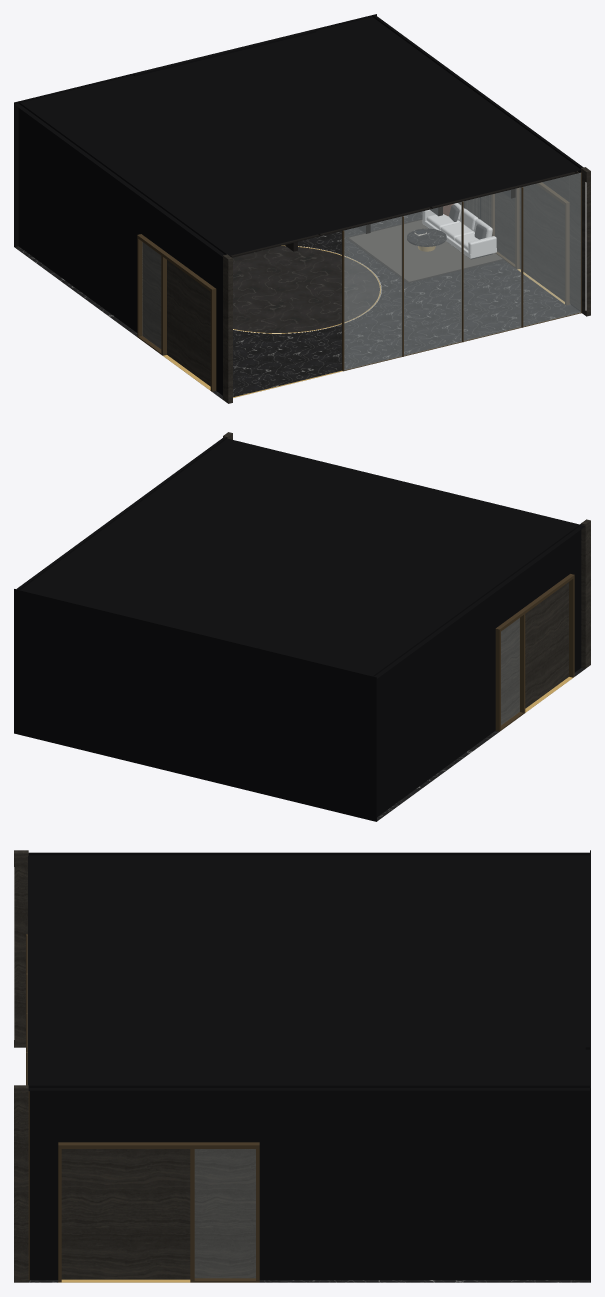
File: room_executive.glb
3 views of the same model, one above another, from view 1: azimuth 30°, elevation 25°; view 2: azimuth 150°, elevation 25°; view 3: azimuth 270°, elevation 25° (orthographic). The views are drawn at different scales.
Parts seen in each view (by area): view 1: MTG_Reveals, MTG_Glass_Vitrine, MTG_Floor, MTG_Stage, MTG_PortalFill_L, MTG_PortalFill_R, MTG_Rug, MTG_Walls, MTG_Sofa, MTG_Glass_PortalL, MTG_Pier_-1, MTG_Ceiling (+6 smaller); view 2: MTG_Reveals, MTG_PortalFill_L, MTG_Glass_PortalL, MTG_Pier_-1, MTG_PortalL_Mull, MTG_Floor, MTG_PortalL_JambA, MTG_PortalL_Head, MTG_PortalL_JambB; view 3: MTG_Reveals, MTG_PortalFill_R, MTG_Glass_PortalR, MTG_Pier_1, MTG_Pier_-1, MTG_PortalR_Head, MTG_Floor, MTG_PortalR_Mull.
Boxes of the visible parts, bbox=[...] form: MTG_Reveals: bbox=[14, 14, 583, 395]; MTG_Glass_Vitrine: bbox=[344, 173, 580, 369]; MTG_Floor: bbox=[14, 211, 579, 399]; MTG_Stage: bbox=[232, 246, 379, 332]; MTG_PortalFill_L: bbox=[142, 242, 210, 386]; MTG_PortalFill_R: bbox=[495, 184, 564, 301]; MTG_Rug: bbox=[349, 220, 502, 281]; MTG_Walls: bbox=[458, 171, 580, 310]; MTG_Sofa: bbox=[422, 203, 496, 259]; MTG_Glass_PortalL: bbox=[142, 242, 160, 348]; MTG_Pier_-1: bbox=[223, 254, 232, 403]; MTG_Ceiling: bbox=[230, 171, 576, 257]; MTG_Reveals: bbox=[14, 437, 584, 821]; MTG_PortalFill_L: bbox=[501, 582, 568, 725]; MTG_Glass_PortalL: bbox=[501, 618, 519, 724]; MTG_Pier_-1: bbox=[581, 519, 590, 668]; MTG_PortalL_Mull: bbox=[519, 614, 525, 713]; MTG_Floor: bbox=[377, 668, 584, 821]; MTG_PortalL_JambA: bbox=[495, 631, 500, 731]; MTG_PortalL_Head: bbox=[495, 574, 574, 632]; MTG_PortalL_JambB: bbox=[569, 578, 574, 677]; MTG_Reveals: bbox=[28, 850, 590, 1282]; MTG_PortalFill_R: bbox=[61, 1149, 255, 1279]; MTG_Glass_PortalR: bbox=[195, 1149, 255, 1277]; MTG_Pier_1: bbox=[14, 1085, 28, 1282]; MTG_Pier_-1: bbox=[14, 850, 28, 1047]; MTG_PortalR_Head: bbox=[58, 1142, 259, 1148]; MTG_Floor: bbox=[28, 1280, 589, 1282]; MTG_PortalR_Mull: bbox=[190, 1149, 194, 1282].
Size of the model in its own units: 13 by 4.95 by 13.32.
Materials: 26 (6 with a texture image).
